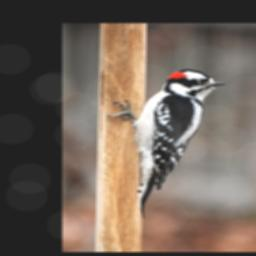Woodpecker: (107, 69, 226, 217)
